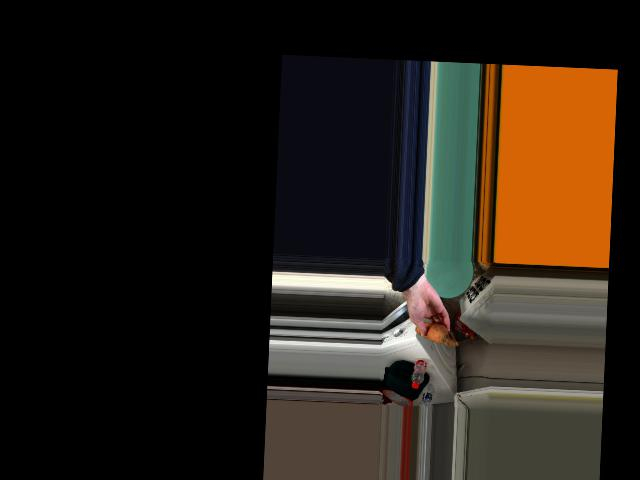sweet_potato: (419, 323, 447, 343)
